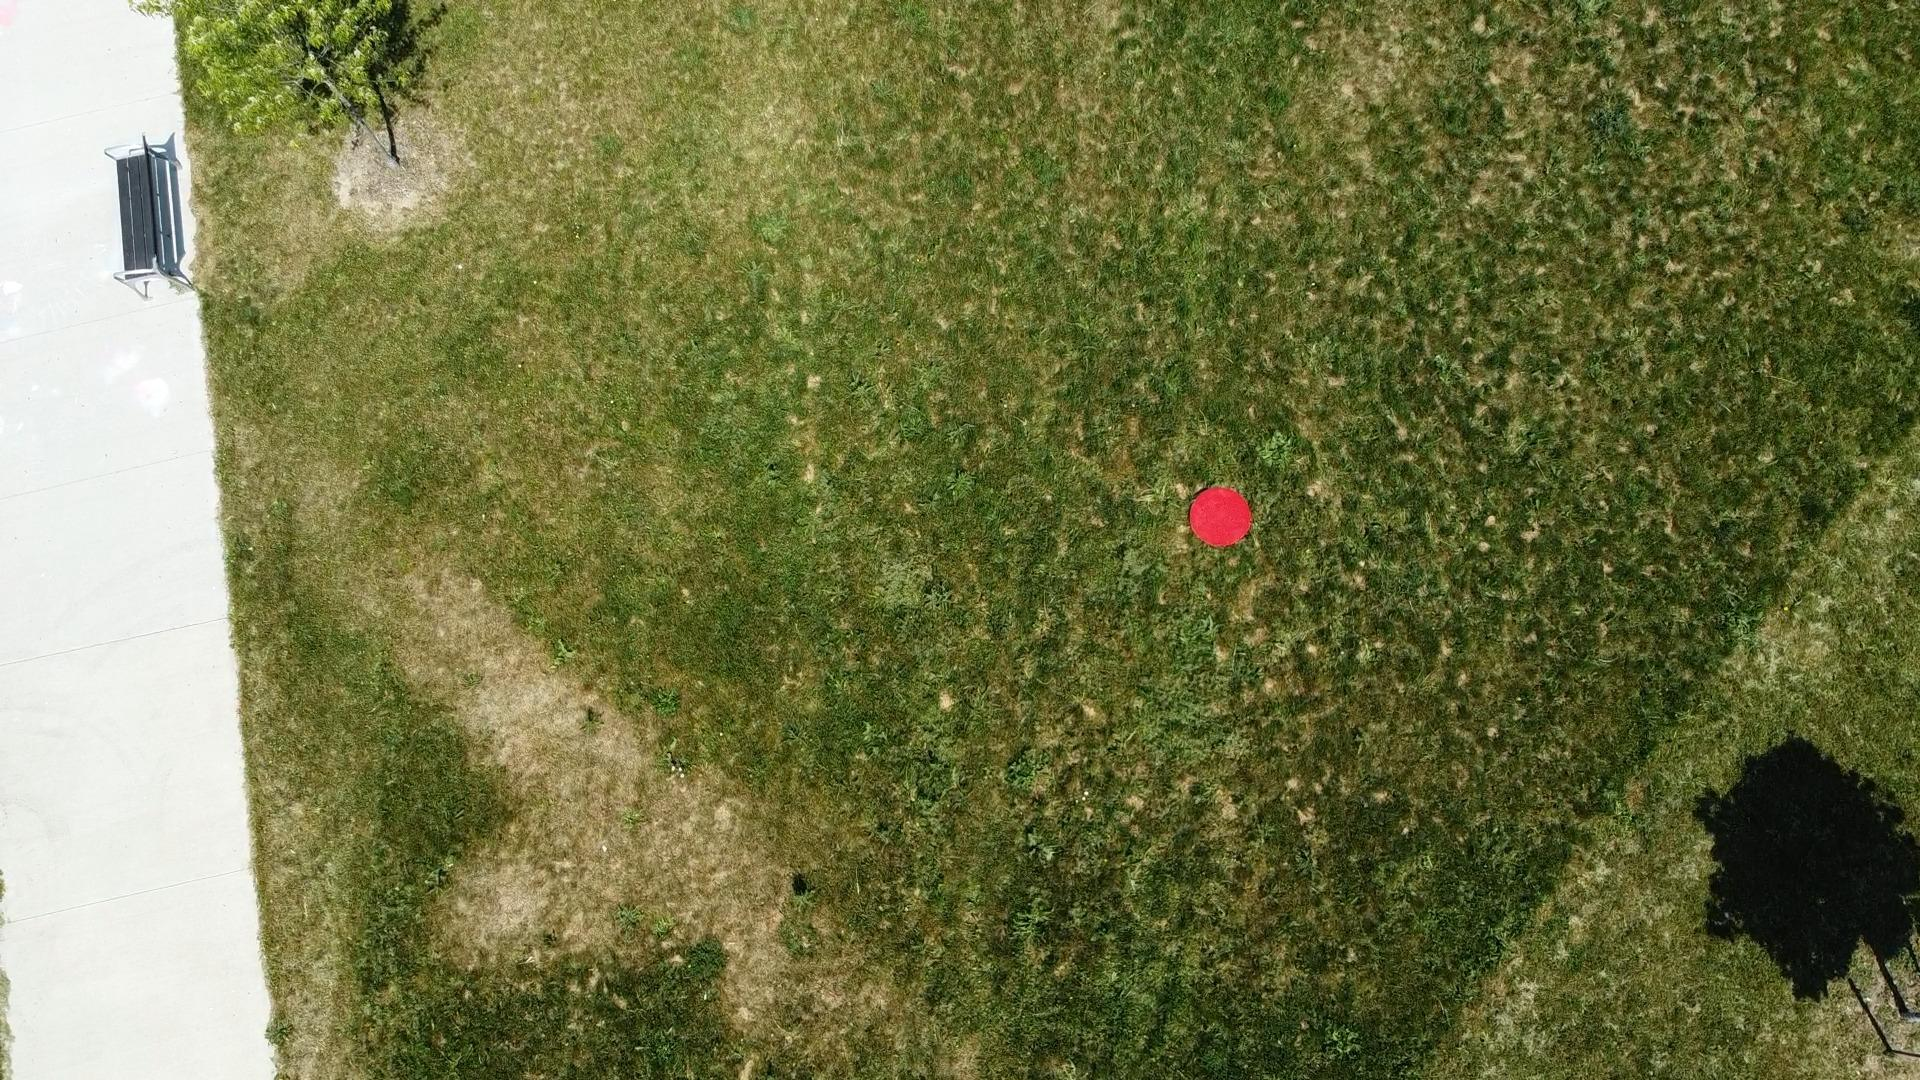Red: (1187, 485, 1254, 550)
